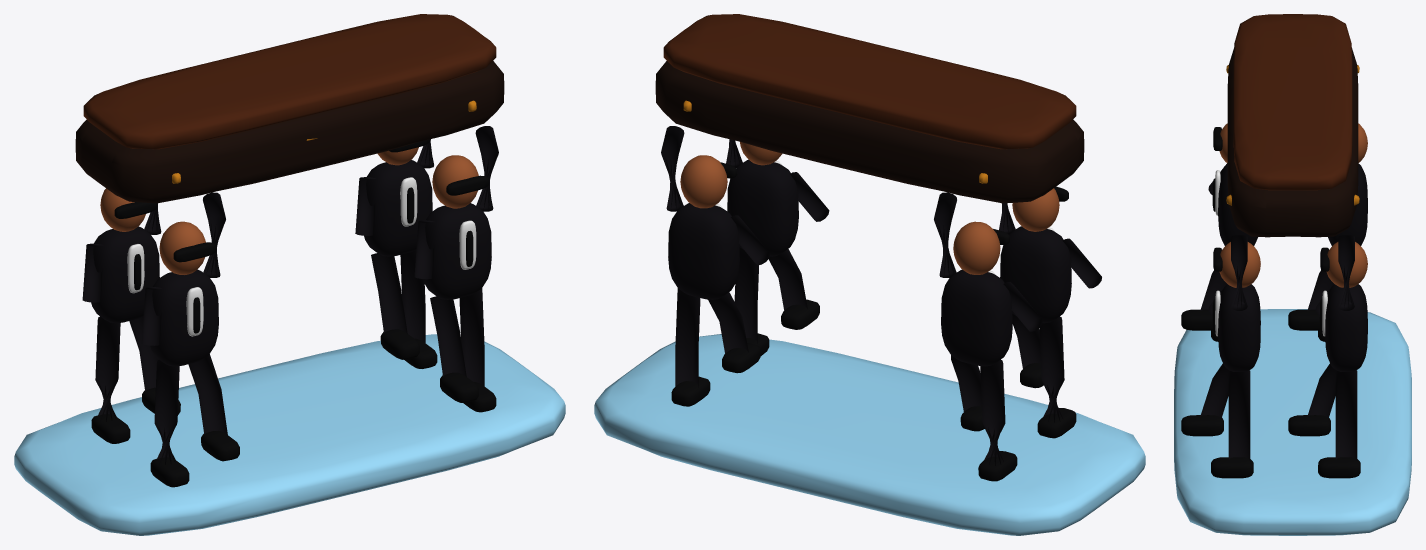
File: FrozenCoffinDance.fbx
3 renders of one model, left to right at view 1: azimuth 30°, elevation 25°; view 2: azimuth 150°, elevation 25°; view 3: azimuth 270°, elevation 25°, orthographic. The views are drawn at different scales.
Parts seen in each view (by area): view 1: FrozenCoffinDance; view 2: FrozenCoffinDance; view 3: FrozenCoffinDance.
Part boxes in pixels (left/top/right/bottom): FrozenCoffinDance: left=14, top=14, right=565, bottom=535; FrozenCoffinDance: left=594, top=14, right=1145, bottom=535; FrozenCoffinDance: left=1174, top=14, right=1411, bottom=535.
Size of the model in its own units: 4.2 by 3.21 by 2.
1 material, 1 textured.
